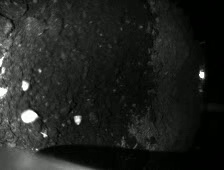corn: (19, 107, 41, 126), (18, 77, 33, 93), (72, 112, 85, 127)
